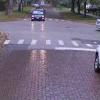Crosswalk: (5, 36, 89, 52)
